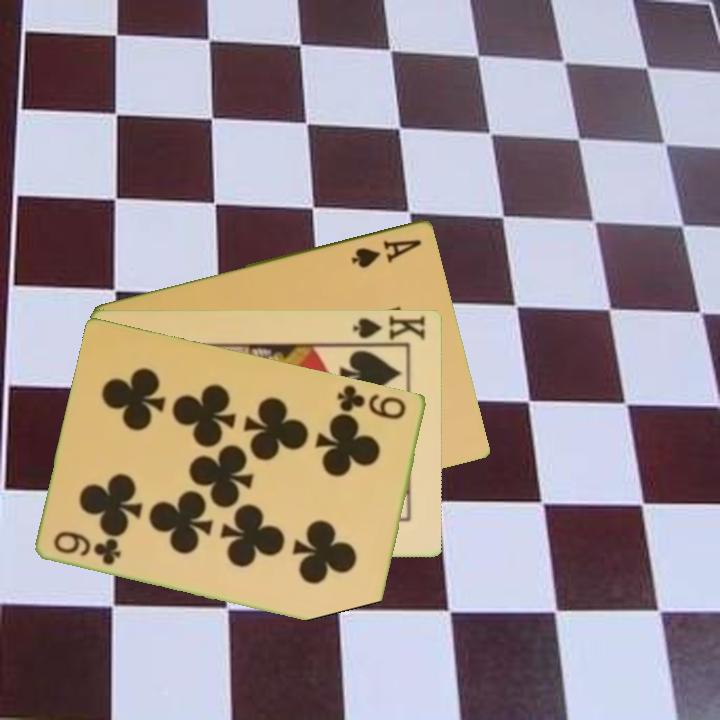9c: (334, 380, 410, 422), (50, 527, 125, 568)
As: (348, 235, 425, 271)
Ks: (348, 312, 429, 347)
